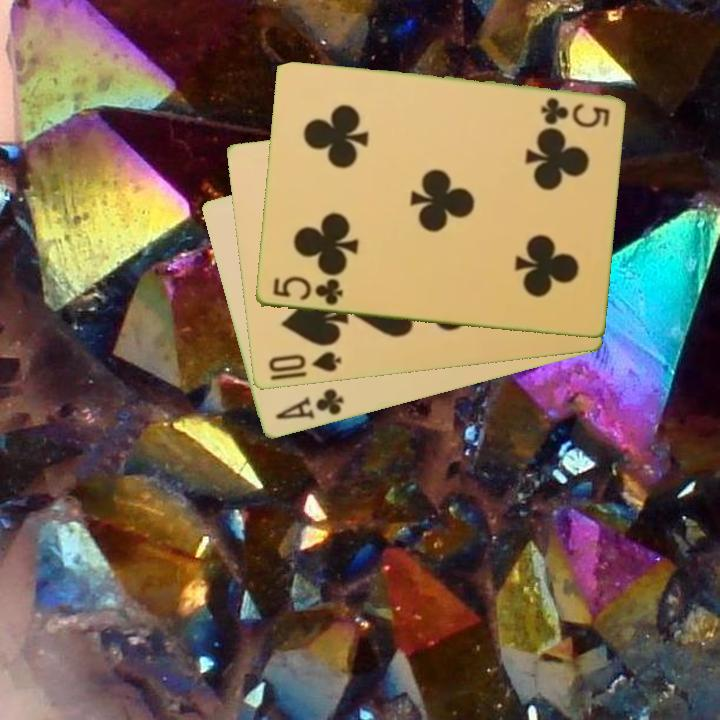10s: (264, 348, 344, 376)
5c: (269, 273, 346, 309), (537, 94, 612, 129)
Ac: (272, 385, 347, 423)
